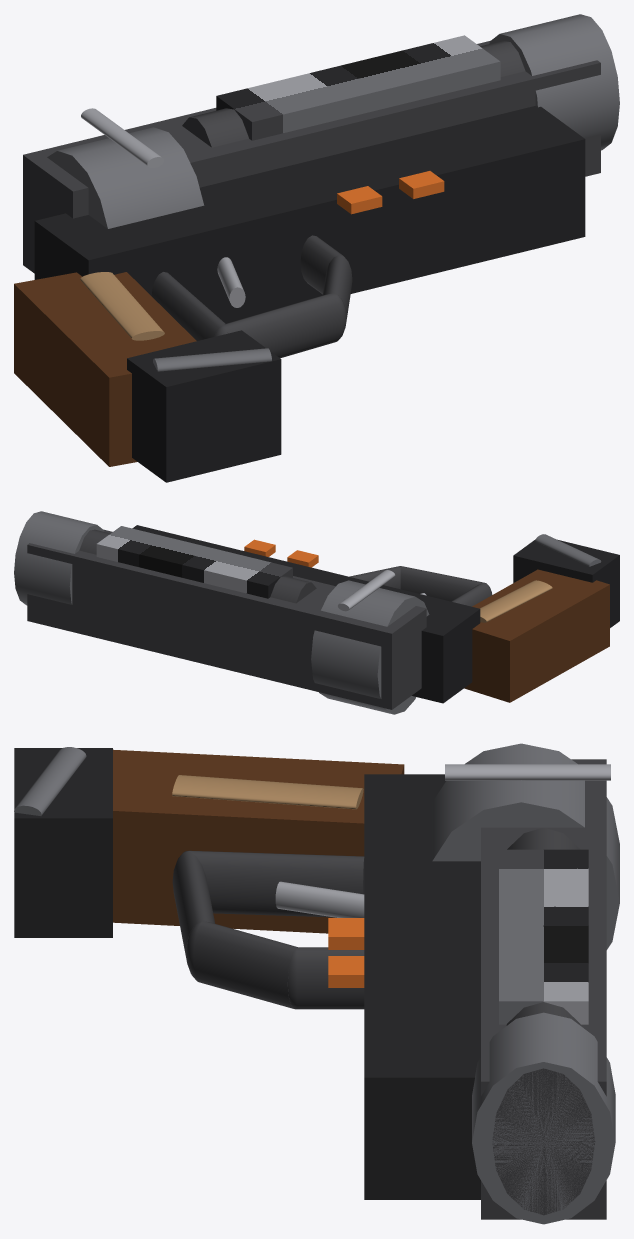
The model's file is CMU3DWorldAU14WeaponRevolverM2019Cloud.glb.
The picture shows the model from 3 angles, top to bottom: view 1: azimuth 30°, elevation 25°; view 2: azimuth 150°, elevation 25°; view 3: azimuth 270°, elevation 25°; orthographic projection. The views are drawn at different scales.
Parts seen in each view (by area): view 1: upper receiver lower body, silver upper shroud, curved brown grip, grip lower flared heel, original silver shroud reflection, rounded side cylinder, forward barrel cuff, open lower trigger guard member 2, upper barrel exterior, grip pale inlay, open lower trigger guard member 1, heel metal edge (+6 smaller); view 2: silver upper shroud, curved brown grip, upper receiver lower body, rounded side cylinder, original silver shroud reflection, forward barrel cuff, grip lower flared heel, open lower trigger guard member 2, upper barrel exterior, grip pale inlay, heel metal edge, cylinder central raised rib (+4 smaller); view 3: upper receiver lower body, curved brown grip, forward barrel cuff, grip lower flared heel, original silver shroud reflection, upper barrel exterior, silver upper shroud, rounded side cylinder, open lower trigger guard member 1, open lower trigger guard member 3, grip pale inlay, open lower trigger guard member 4 (+6 smaller).
Part boxes in pixels (box(x1,y1,x2,y2)): upper receiver lower body: box(34, 106, 585, 323); silver upper shroud: box(23, 40, 600, 273); curved brown grip: box(14, 272, 196, 466); grip lower flared heel: box(127, 330, 281, 482); original silver shroud reflection: box(216, 35, 500, 140); rounded side cylinder: box(47, 127, 204, 228); forward barrel cuff: box(489, 14, 619, 150); open lower trigger guard member 2: box(224, 293, 340, 358); upper barrel exterior: box(182, 41, 525, 147); grip pale inlay: box(80, 272, 164, 340); open lower trigger guard member 1: box(151, 272, 225, 340); heel metal edge: box(153, 348, 271, 371); silver upper shroud: box(27, 529, 426, 709); curved brown grip: box(464, 569, 609, 702); upper receiver lower body: box(132, 525, 480, 703); rounded side cylinder: box(311, 580, 429, 714); original silver shroud reflection: box(96, 526, 292, 598); forward barrel cuff: box(14, 511, 104, 605); grip lower flared heel: box(513, 539, 619, 627); open lower trigger guard member 2: box(400, 566, 484, 601); upper barrel exterior: box(79, 529, 316, 603); grip pale inlay: box(480, 580, 552, 622); heel metal edge: box(535, 534, 601, 566); cylinder central raised rib: box(338, 570, 395, 611); upper receiver lower body: box(364, 774, 480, 1199); curved brown grip: box(113, 749, 404, 933); forward barrel cuff: box(472, 1012, 615, 1224); grip lower flared heel: box(14, 748, 112, 937); original silver shroud reflection: box(499, 849, 588, 1024); upper barrel exterior: box(492, 827, 595, 1215); silver upper shroud: box(481, 759, 606, 1219); rounded side cylinder: box(432, 743, 619, 949); open lower trigger guard member 1: box(189, 850, 364, 917); open lower trigger guard member 3: box(193, 921, 298, 1008); grip pale inlay: box(172, 775, 363, 809); open lower trigger guard member 4: box(297, 947, 364, 1009).
Size of the model in its own units: 0.6621 by 0.1625 by 0.4222.
8 materials, 1 textured.
